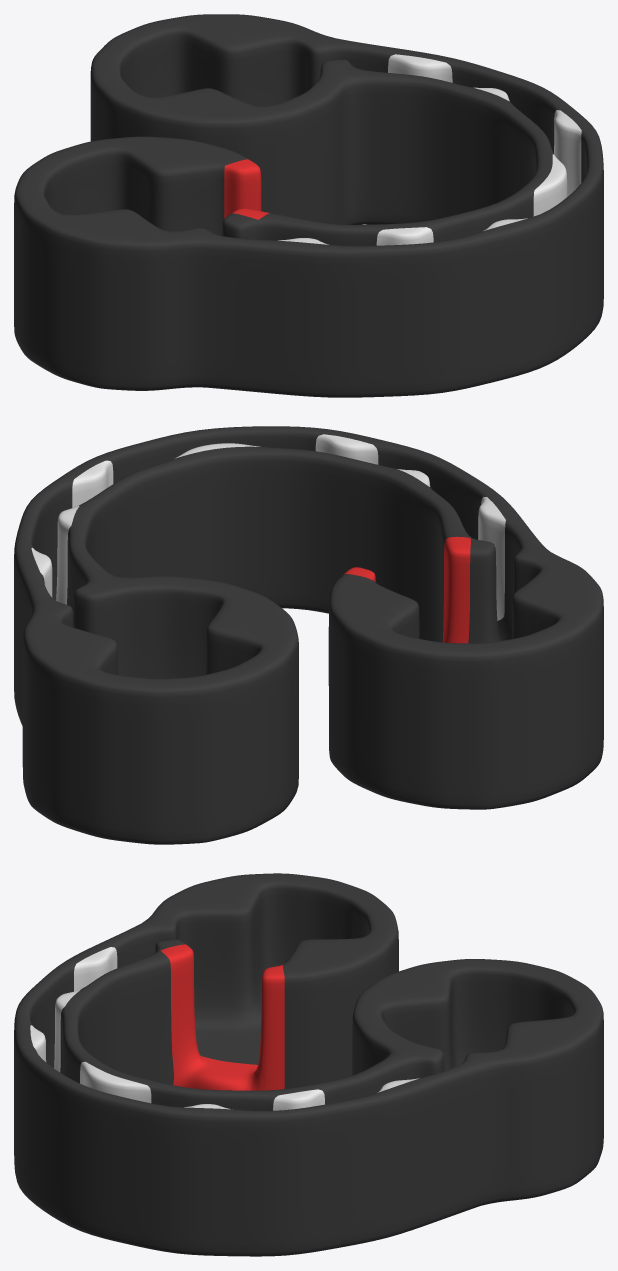
Rendered from headphones_labyrinth.fbx.
3 renders of one model, top to bottom at view 1: azimuth 30°, elevation 25°; view 2: azimuth 150°, elevation 25°; view 3: azimuth 270°, elevation 25°, orthographic. The views are drawn at different scales.
Visible parts, largest first — view 1: Headphones; view 2: Headphones; view 3: Headphones.
Boxes of the visible parts, x1,y1,x2,y2 form: Headphones: [14, 14, 603, 397]; Headphones: [14, 426, 603, 844]; Headphones: [14, 873, 603, 1256].
Bounding box in the file's own units: 4.55 × 1.24 × 4.64.
